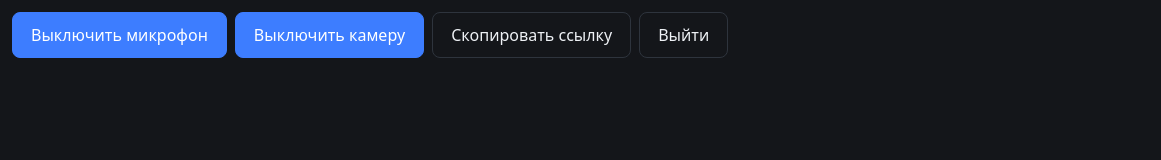
12 ★ Controls: копирование ссылки (ФТ-3, US-3) › ★ отказ буфера обмена: подсказка скопировать вручную, без падения
Click the button "Скопировать ссылку".
click(532, 35)  # box x1=432 y1=12 x2=631 y2=58
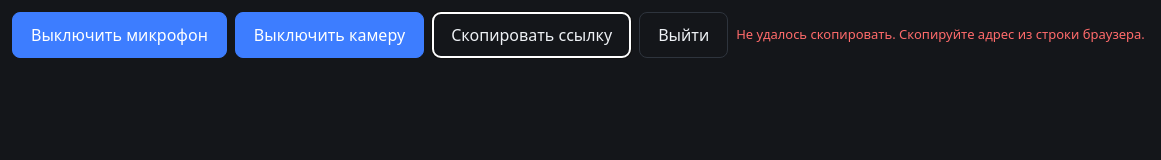
Now the text "Не удалось скопировать. Скопируйте адрес из строки браузера." is shown, box x1=736 y1=25 x2=1145 y2=45
